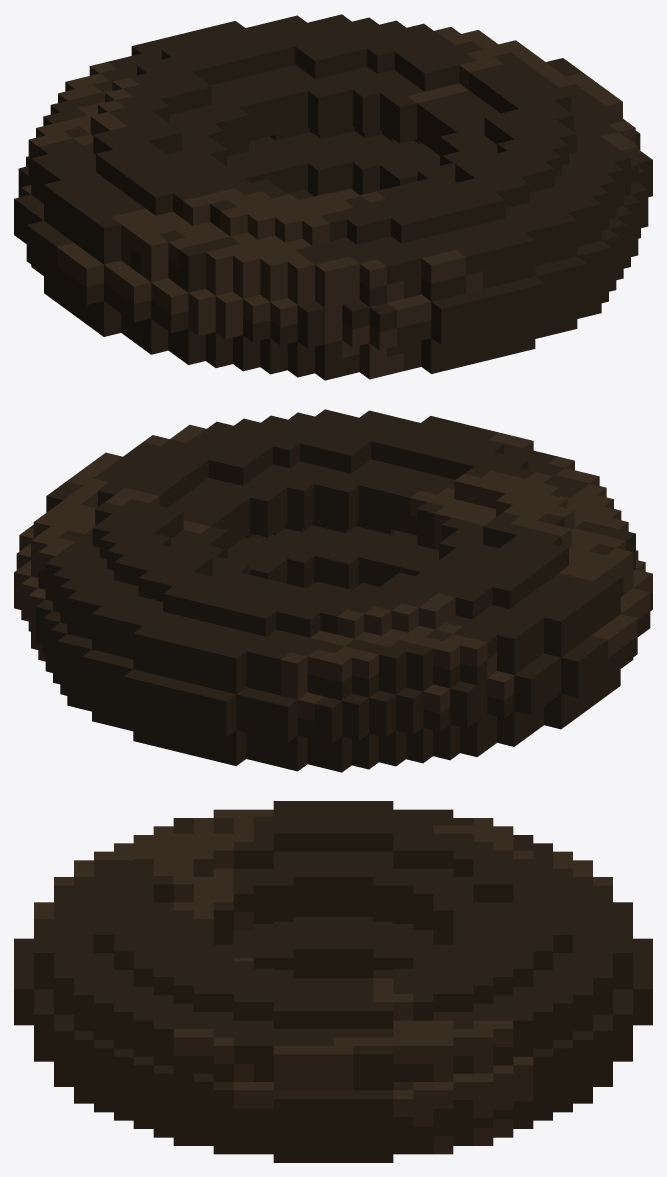
File: Background_A_deco_04.FBX
3 renders of one model, top to bottom at view 1: azimuth 30°, elevation 25°; view 2: azimuth 150°, elevation 25°; view 3: azimuth 270°, elevation 25°, orthographic.
Parts seen in each view (by area): view 1: Load_A-5; view 2: Load_A-5; view 3: Load_A-5.
Boxes of the visible parts, bbox=[...] form: Load_A-5: bbox=[14, 14, 652, 380]; Load_A-5: bbox=[14, 409, 652, 772]; Load_A-5: bbox=[14, 801, 652, 1162].
Size of the model in its own units: 3.2 by 0.8 by 3.2.
Materials: 1 (1 with a texture image).
